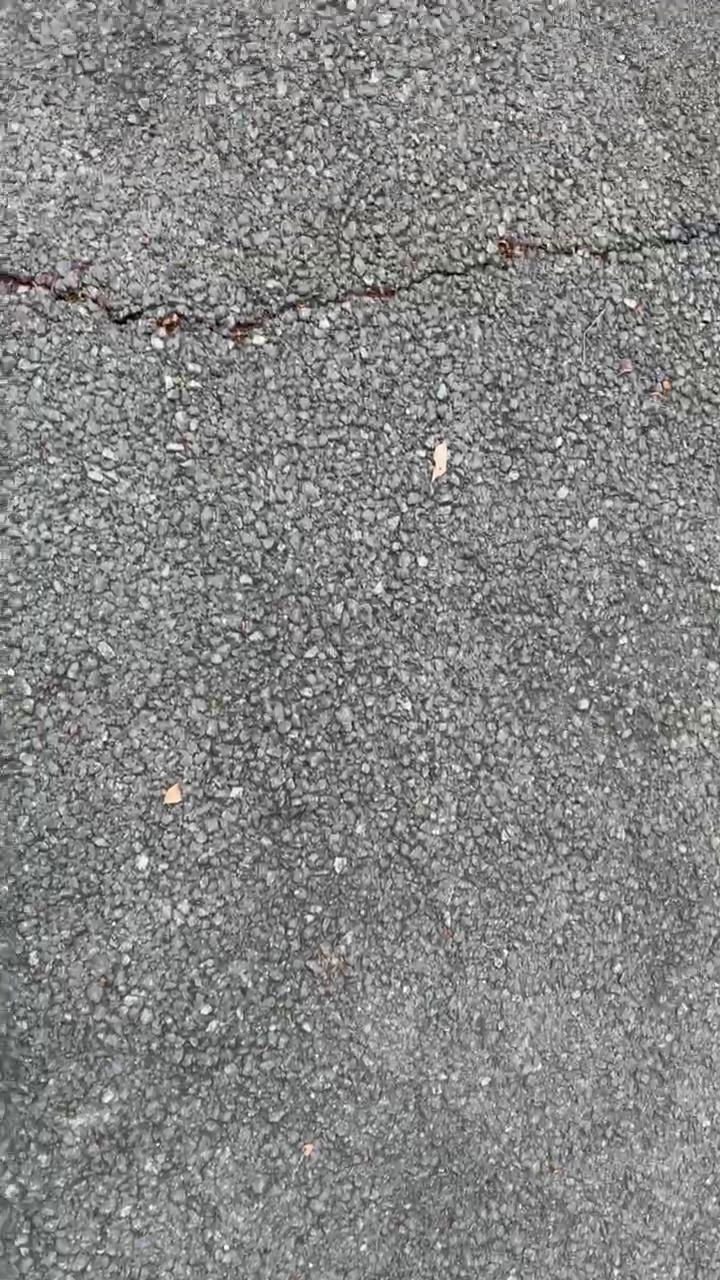Crack: (1, 221, 720, 342)
